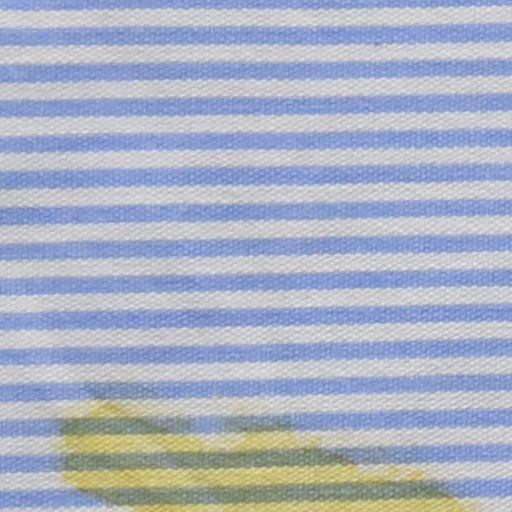defect: (55, 412, 484, 512)
